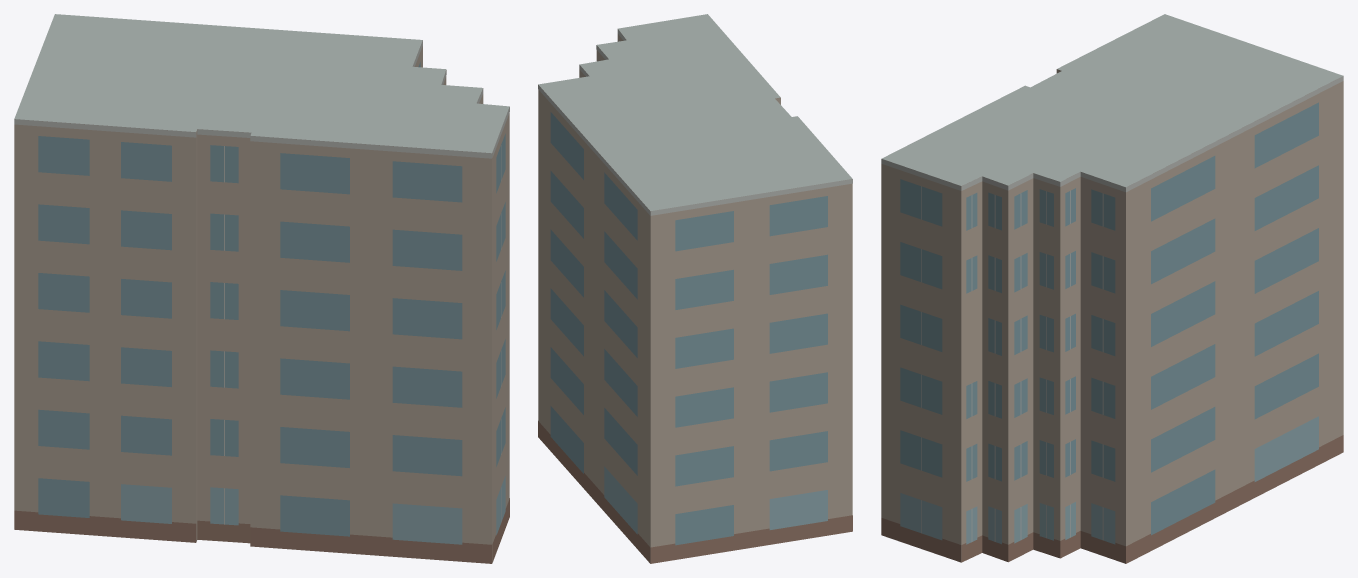
Rendered from survey-upis-32593079.glb.
3 views of the same model, side by side, from view 1: azimuth 30°, elevation 25°; view 2: azimuth 150°, elevation 25°; view 3: azimuth 270°, elevation 25° (orthographic). The views are drawn at different scales.
Visible parts, largest first — view 1: survey-upis-32593079.tmp; view 2: survey-upis-32593079.tmp; view 3: survey-upis-32593079.tmp.
Part boxes in pixels (x1,y1,x2,y2): survey-upis-32593079.tmp: (14, 14, 509, 563); survey-upis-32593079.tmp: (538, 14, 852, 563); survey-upis-32593079.tmp: (881, 14, 1343, 563).
Bounding box in the file's own units: 18.08 × 18.3 × 20.36.
